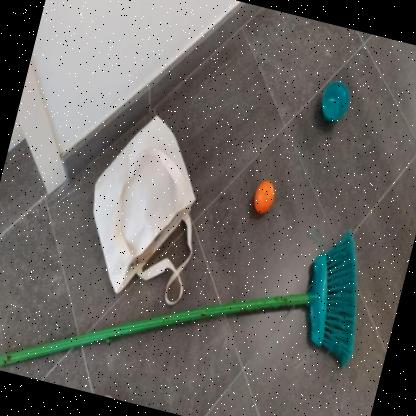bag: (65, 100, 232, 318)
